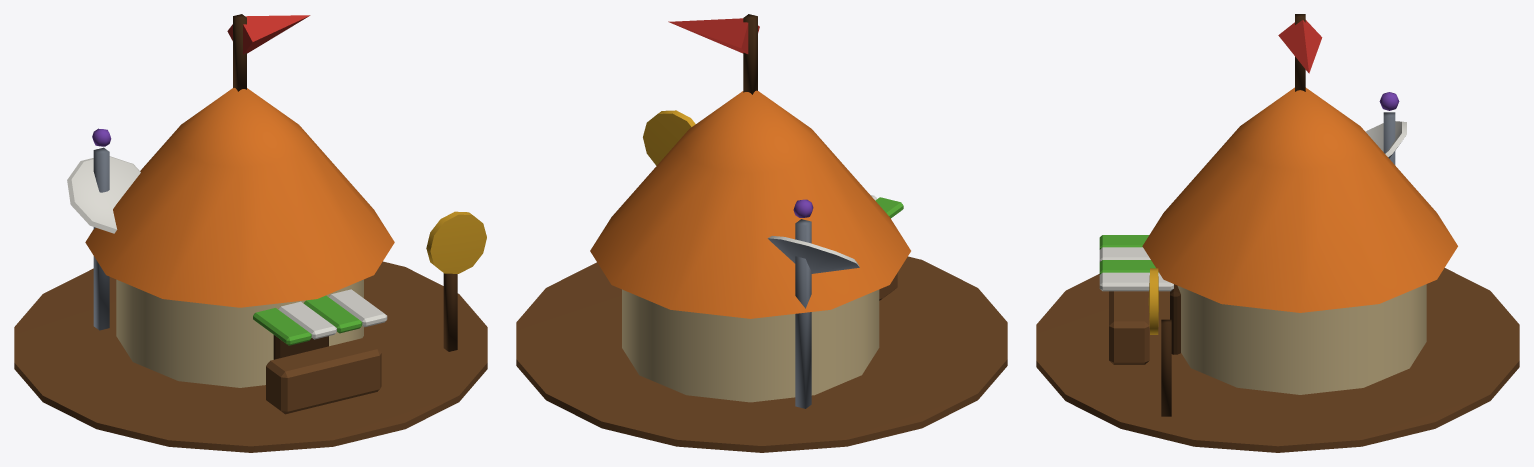
3 renders of one model, left to right at view 1: azimuth 30°, elevation 25°; view 2: azimuth 150°, elevation 25°; view 3: azimuth 270°, elevation 25°, orthographic. The views are drawn at different scales.
Parts seen in each view (by area): view 1: vila_0_base; view 2: vila_0_base; view 3: vila_0_base.
Part boxes in pixels (left/top/right/bottom): vila_0_base: left=14, top=14, right=487, bottom=452; vila_0_base: left=516, top=14, right=1007, bottom=452; vila_0_base: left=1036, top=14, right=1519, bottom=452.
Size of the model in its own units: 1.32 by 0.993 by 1.3.
